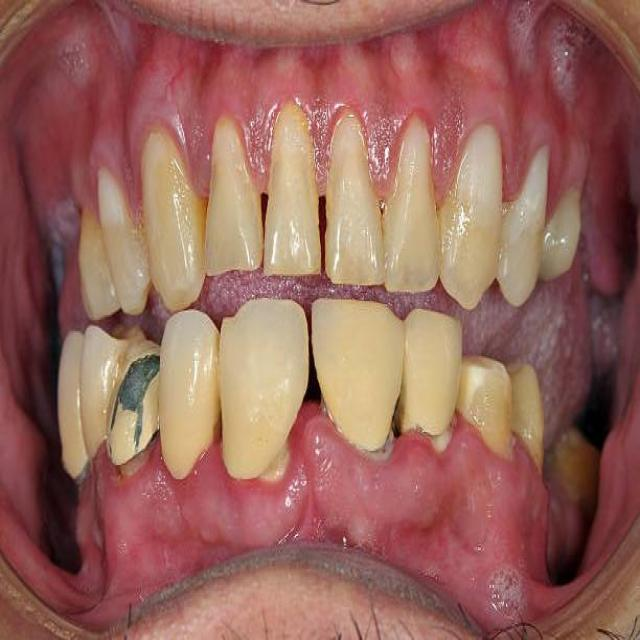caries: (356, 411, 402, 466)
